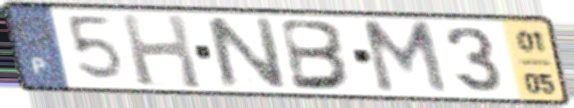3: (444, 25, 507, 94)
5: (60, 14, 129, 85)
B: (278, 16, 356, 93)
H: (117, 12, 207, 92)
M: (357, 19, 453, 98)
N: (200, 15, 291, 91)
